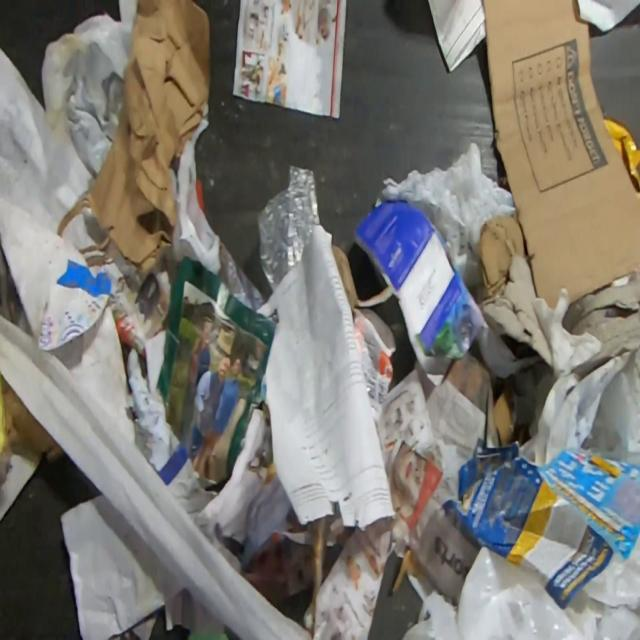cardboard: (481, 0, 640, 311), (39, 0, 140, 181), (494, 391, 511, 446)
soft_plastic: (400, 531, 640, 640), (380, 141, 516, 289), (168, 103, 221, 276), (255, 164, 320, 293), (603, 117, 640, 193)
